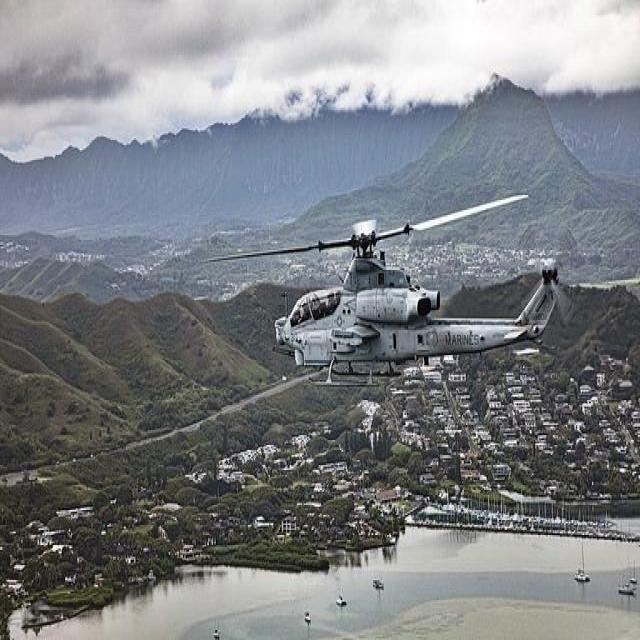MIL_HELO: (204, 185, 579, 399)
